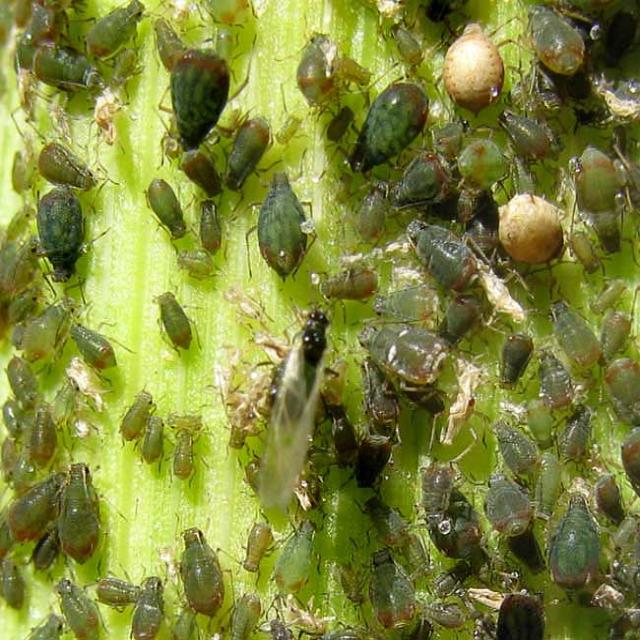Aphid-Grouped-: (264, 14, 628, 608), (0, 136, 127, 614)
Aphid-Grown-: (350, 313, 468, 399), (340, 74, 438, 177), (163, 507, 251, 617), (398, 213, 498, 307), (241, 165, 322, 279), (31, 181, 104, 285), (266, 501, 342, 600), (546, 487, 607, 608), (56, 459, 126, 564), (35, 138, 116, 205), (542, 289, 602, 375), (222, 109, 277, 199), (66, 308, 128, 386), (485, 98, 554, 165), (310, 256, 390, 310), (148, 280, 206, 354), (481, 412, 543, 480), (139, 172, 198, 242), (188, 188, 243, 258), (529, 347, 583, 413), (347, 174, 396, 244), (22, 402, 72, 468), (374, 15, 431, 72), (168, 235, 226, 288), (167, 419, 209, 482), (89, 571, 145, 613)
Aphid-Grown-have wings-: (252, 294, 351, 534)
